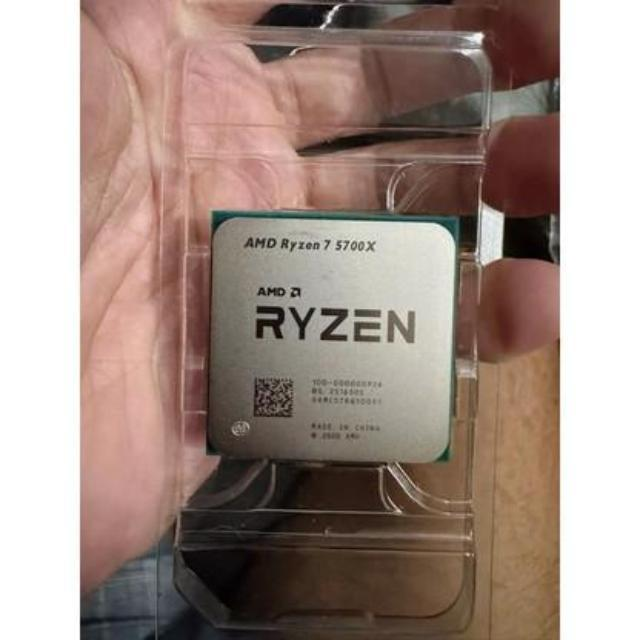CPU: (206, 208, 454, 460)
